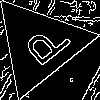P: (14, 19, 74, 75)
